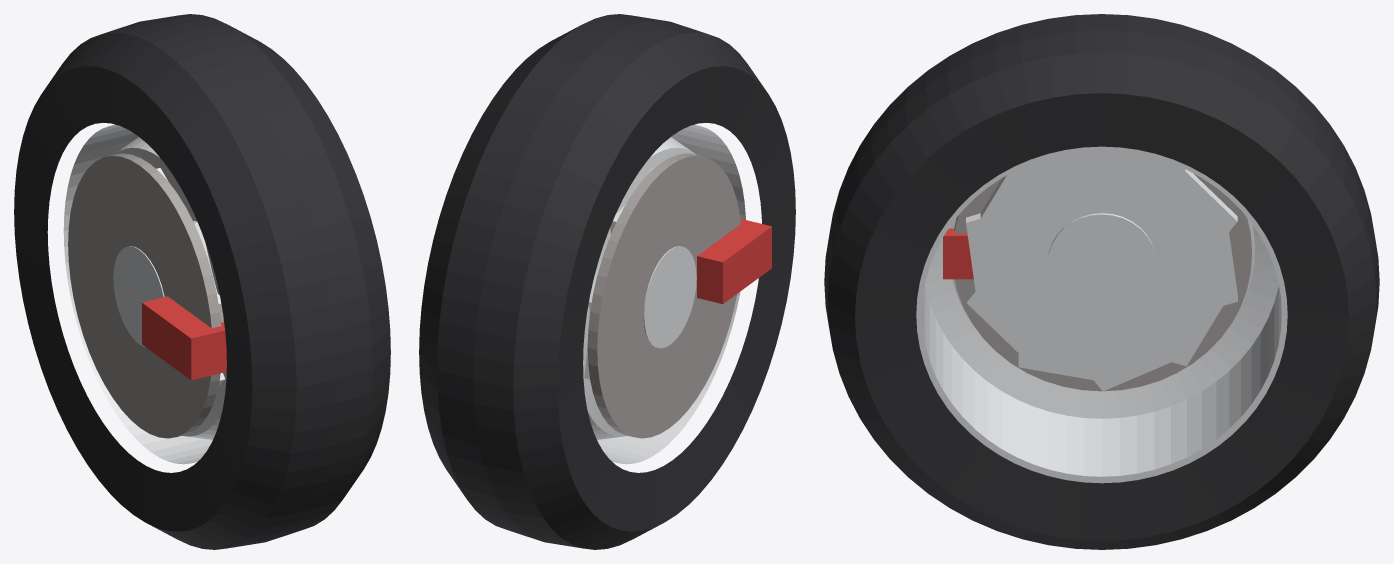
File: mesh_10spoke.glb
3 renders of one model, left to right at view 1: azimuth 30°, elevation 25°; view 2: azimuth 150°, elevation 25°; view 3: azimuth 270°, elevation 25°, orthographic. The views are drawn at different scales.
Visible parts, largest first — view 1: Tire, BrakeRotor, RimBarrel, BrakeCaliper, HubCap; view 2: Tire, BrakeRotor, RimBarrel, BrakeCaliper, HubCap; view 3: Tire, RimSpokes, RimBarrel, HubCap, BrakeRotor, BrakeCaliper.
Boxes of the visible parts, x1,y1,x2,y2 form: Tire: [14, 14, 390, 549]; BrakeRotor: [68, 153, 221, 438]; RimBarrel: [63, 124, 226, 464]; BrakeCaliper: [142, 296, 226, 380]; HubCap: [113, 246, 164, 347]; Tire: [419, 14, 795, 549]; BrakeRotor: [587, 153, 740, 438]; RimBarrel: [583, 124, 745, 464]; BrakeCaliper: [697, 218, 771, 304]; HubCap: [643, 246, 696, 348]; Tire: [824, 14, 1379, 549]; RimSpokes: [966, 150, 1237, 391]; RimBarrel: [916, 146, 1287, 483]; HubCap: [1047, 213, 1156, 312]; BrakeRotor: [954, 173, 1251, 391]; BrakeCaliper: [943, 228, 973, 279].
Bounding box in the file's own units: 0.295 × 0.8703 × 0.8703.
